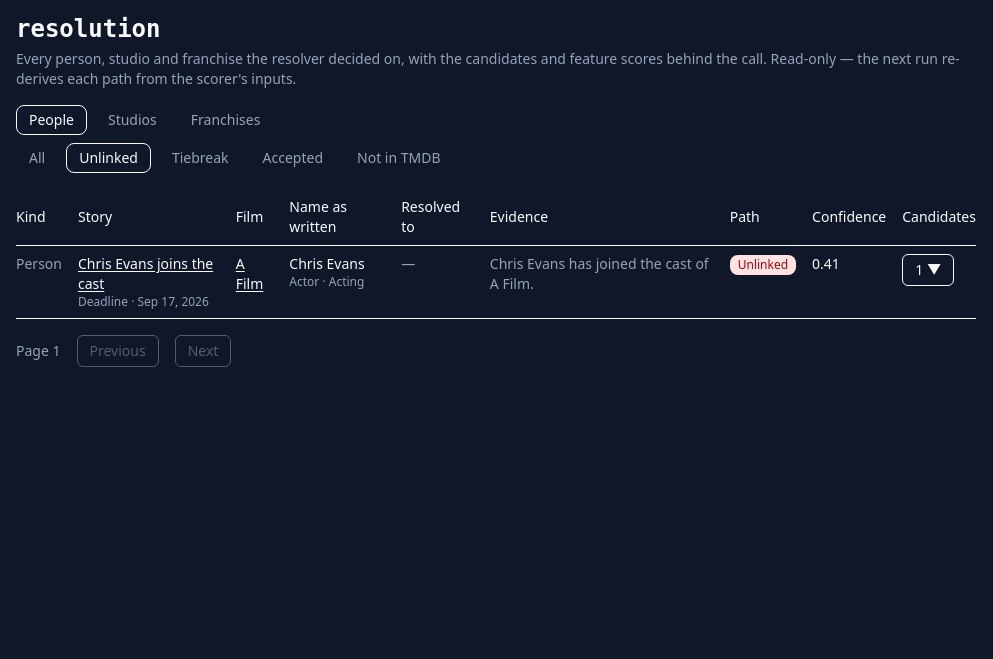
AdminResolution › renders a candidate the backend could not validate rather than dropping it
What coordinates should you click on to do the following:
click the button named "Show candidates for Chris Evans"
I would click on:
 (928, 270)
Its box is [902,254,954,286].
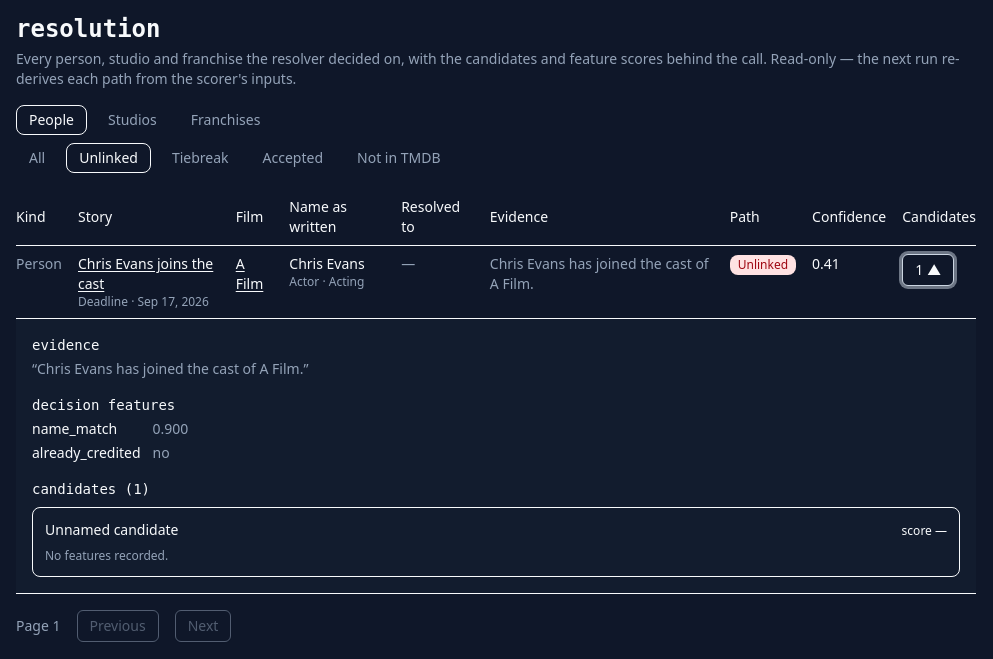
Result: the text "Unnamed candidate" is shown at [45,520,178,540]
Result: the text "score —" is shown at [902,523,947,539]
Result: the text "No features recorded." is shown at [45,547,168,564]
